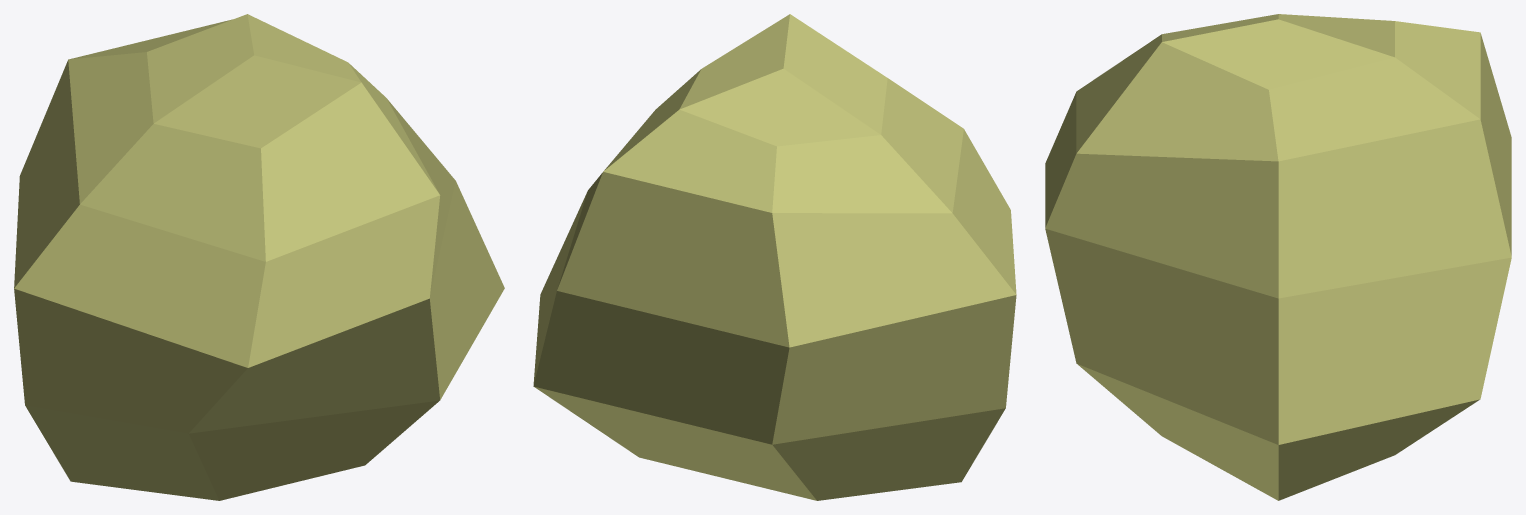
File: bush.fbx
The picture shows the model from 3 angles, left to right: view 1: azimuth 30°, elevation 25°; view 2: azimuth 150°, elevation 25°; view 3: azimuth 270°, elevation 25°; orthographic projection. The views are drawn at different scales.
Parts seen in each view (by area): view 1: bush; view 2: bush; view 3: bush.
Part boxes in pixels (bbox=[...]): bush: bbox=[14, 14, 504, 500]; bush: bbox=[533, 14, 1016, 500]; bush: bbox=[1045, 14, 1511, 500].
Bounding box in the file's own units: 1.38 × 1.12 × 1.11.
